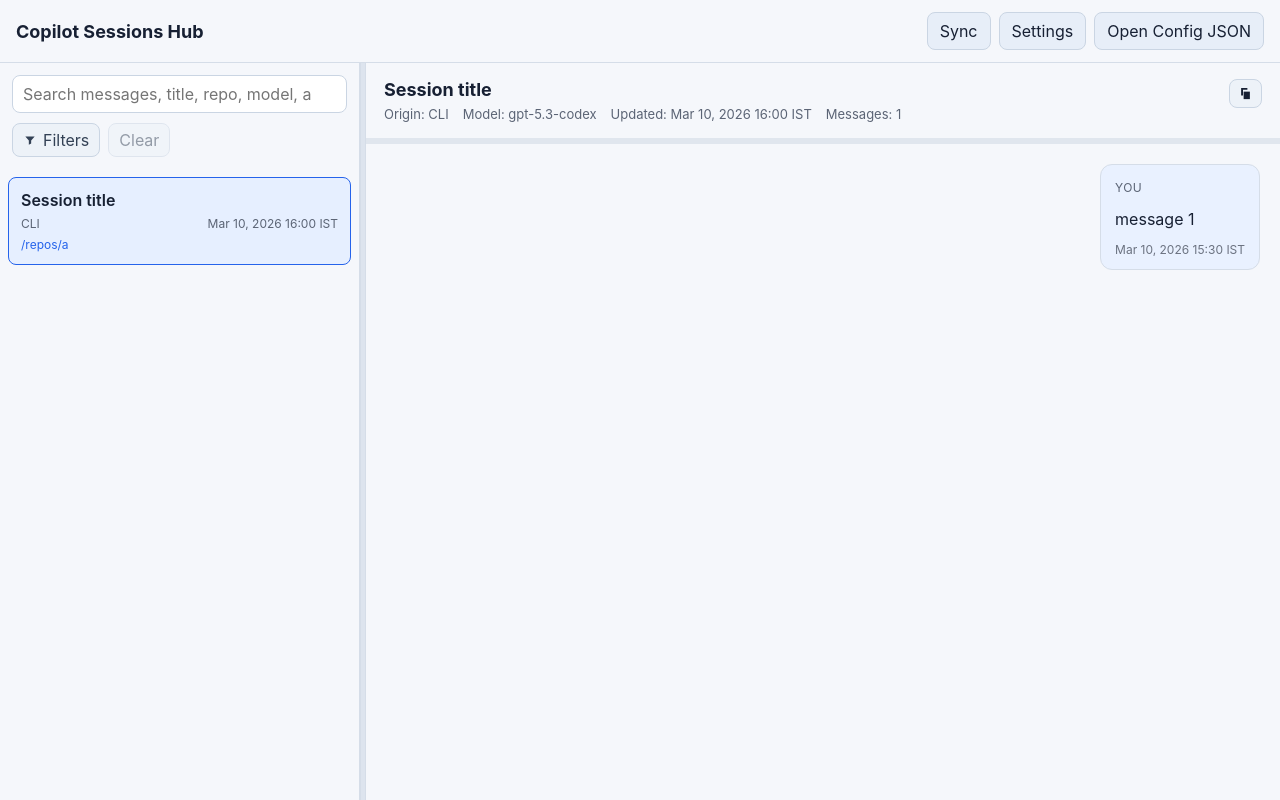
Test case: App sync detail refresh › refreshes selected session detail after sync when the session remains selected
The image size is (1280, 800).
Expected: the text "Messages: 1" is shown, [826,106,901,122]
Step 1. Click the button "Sync" → coordinates (959, 31), box [927,12,990,50]
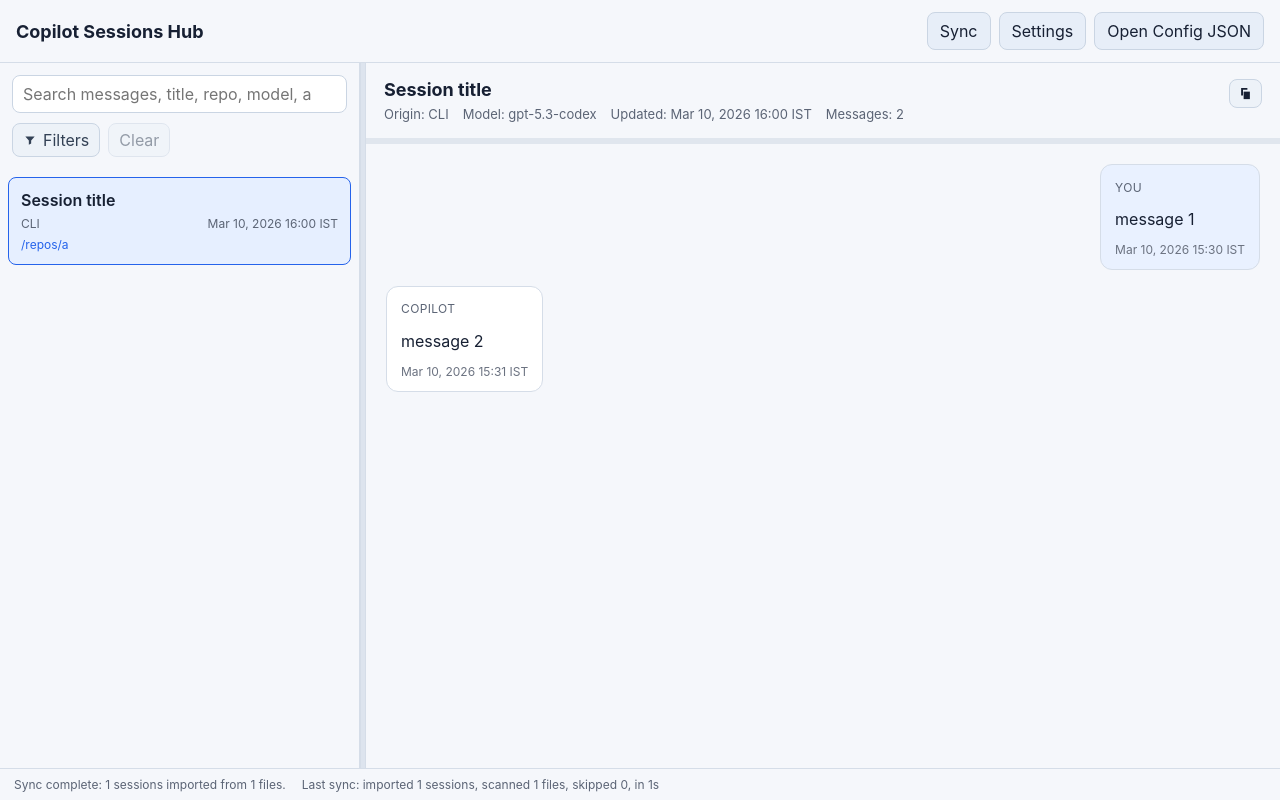
Result: the text "Messages: 2" is shown at [826,106,904,122]
Result: the text "Last sync: imported 1 sessions, scanned 1 files, skipped 0, in 1s" is shown at [302,777,659,792]
